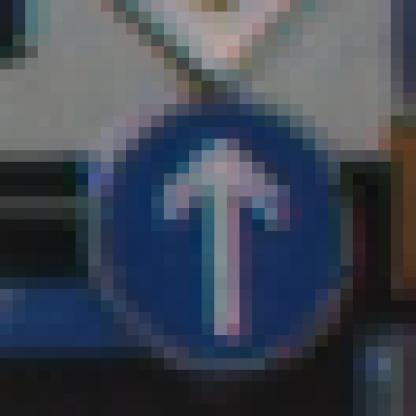AheadOnly: (77, 71, 354, 360)
